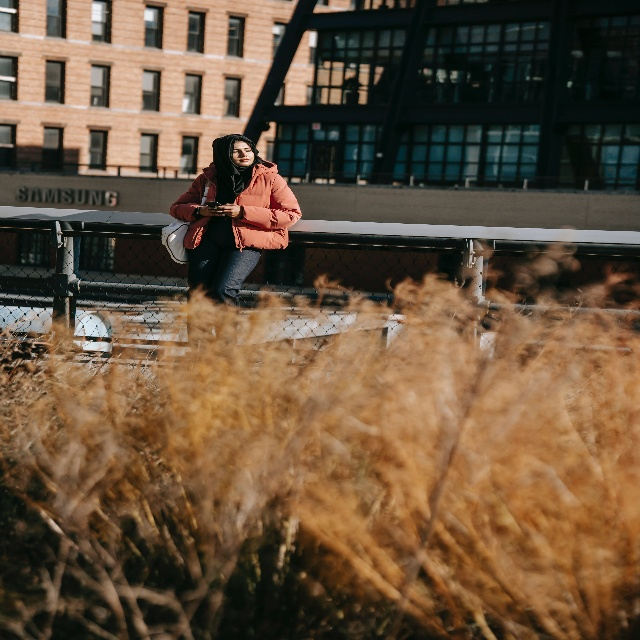Sin_guantes: (215, 202, 242, 219), (198, 205, 225, 218)
